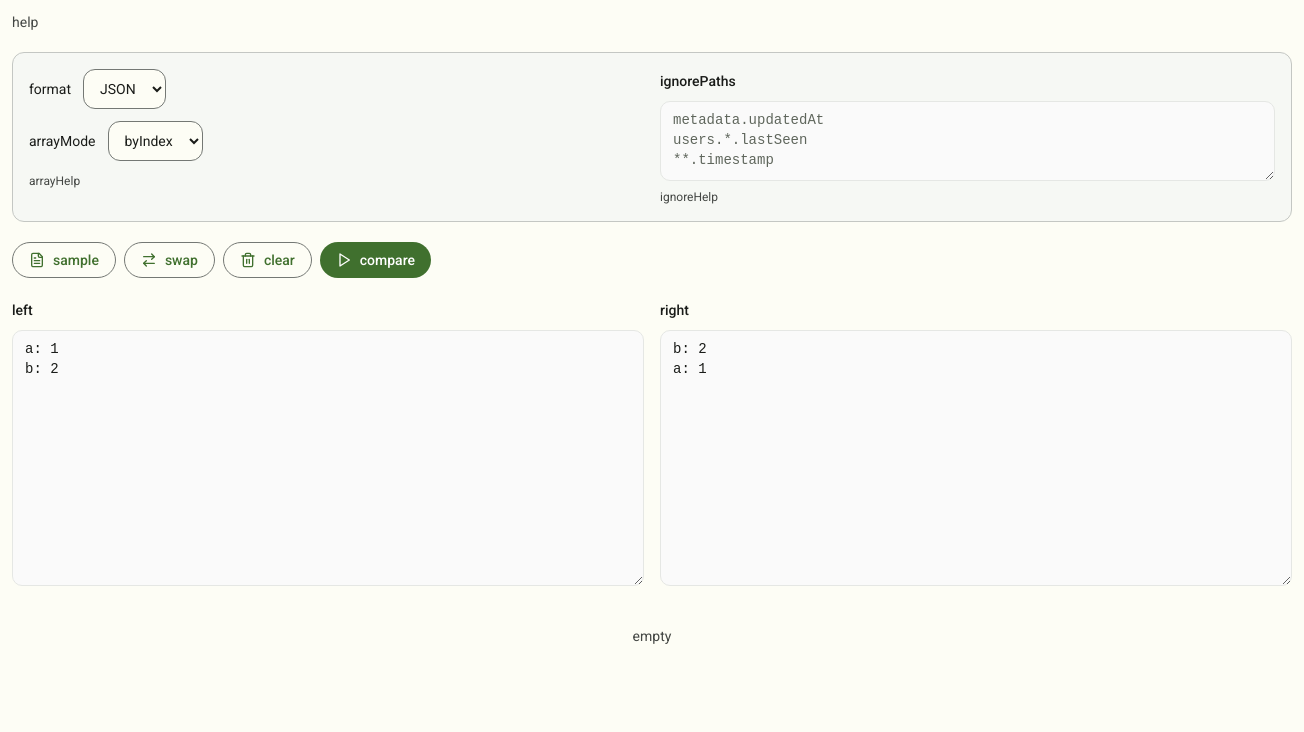
Test: structured diff panel › does not show changes for object key order and supports YAML
Step 1. Select "YAML" in the dropdown labelled "format" → (125, 89), box [83,69,166,109]
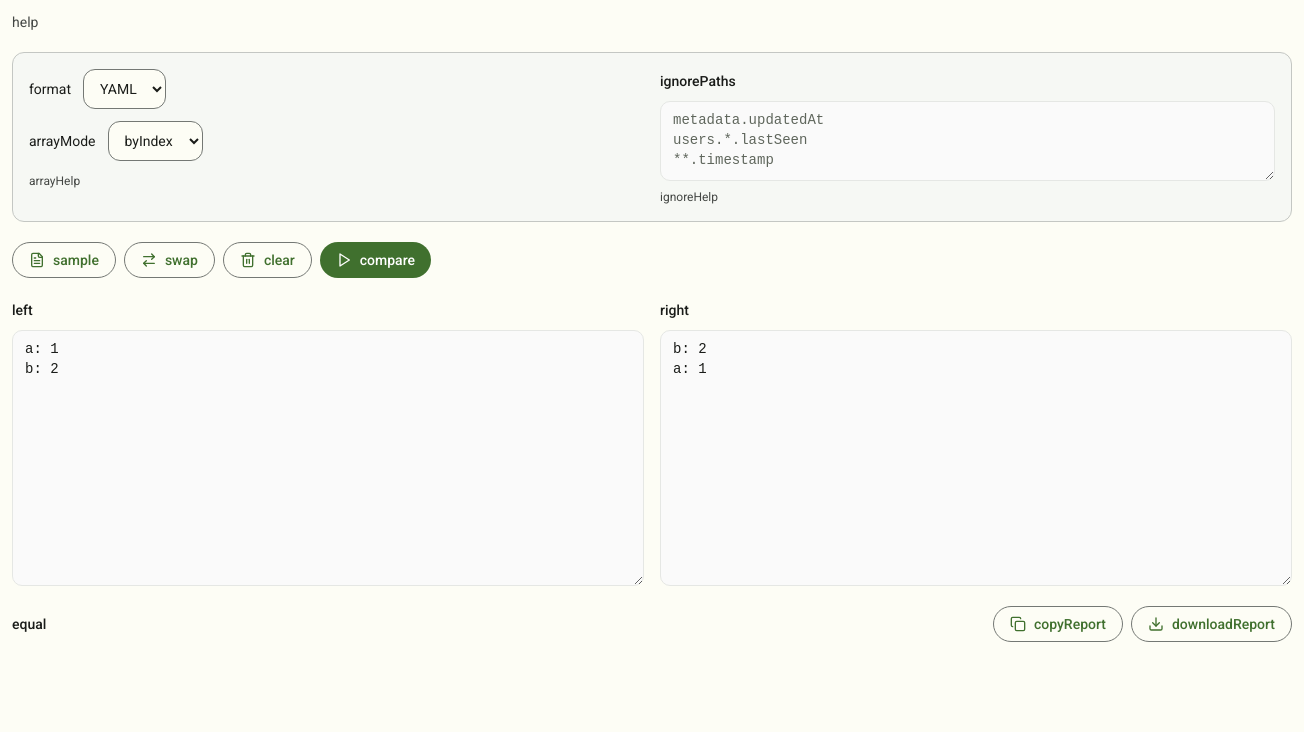
Expected: the text "equal" is shown, [12,614,46,634]
